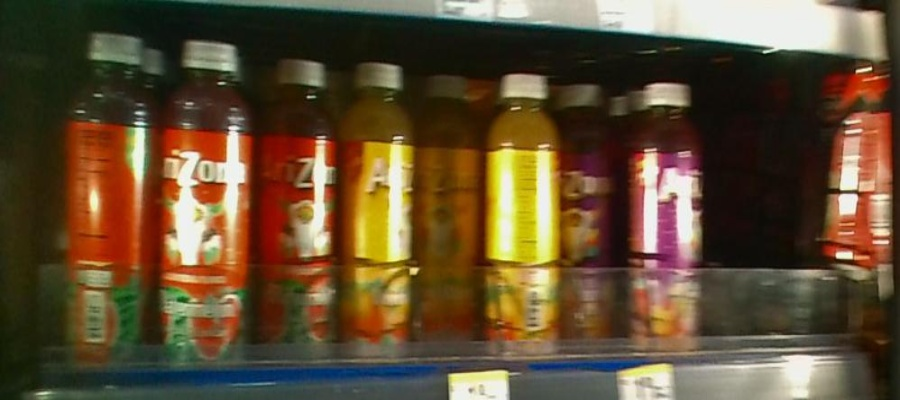bottle: (155, 22, 256, 371), (62, 20, 152, 374), (260, 39, 335, 375), (339, 47, 412, 368), (629, 71, 705, 364), (487, 52, 557, 364), (418, 58, 484, 364), (561, 71, 620, 350)
